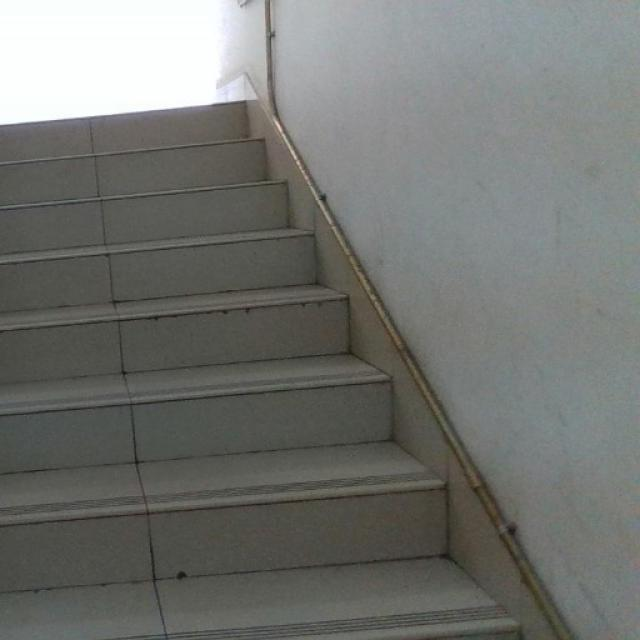stair: (0, 86, 415, 640)
